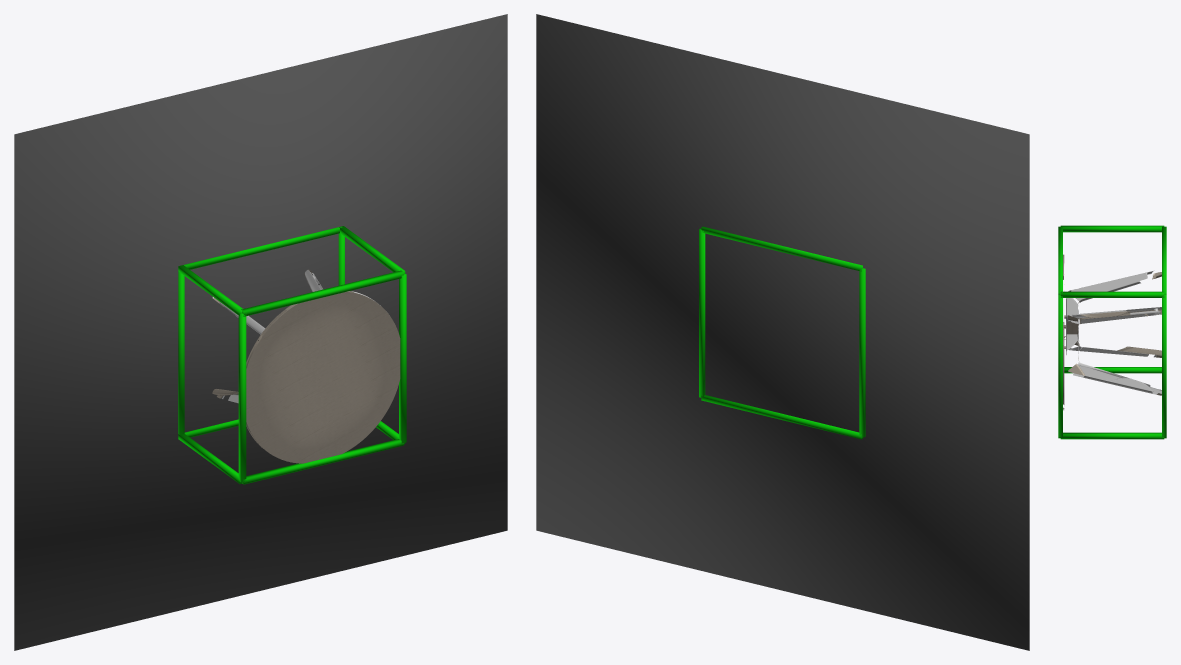
3 views of the same model, side by side, from view 1: azimuth 30°, elevation 25°; view 2: azimuth 150°, elevation 25°; view 3: azimuth 270°, elevation 25° (orthographic). The views are drawn at different scales.
Size of the model in its own units: 2 by 2 by 0.4523.
